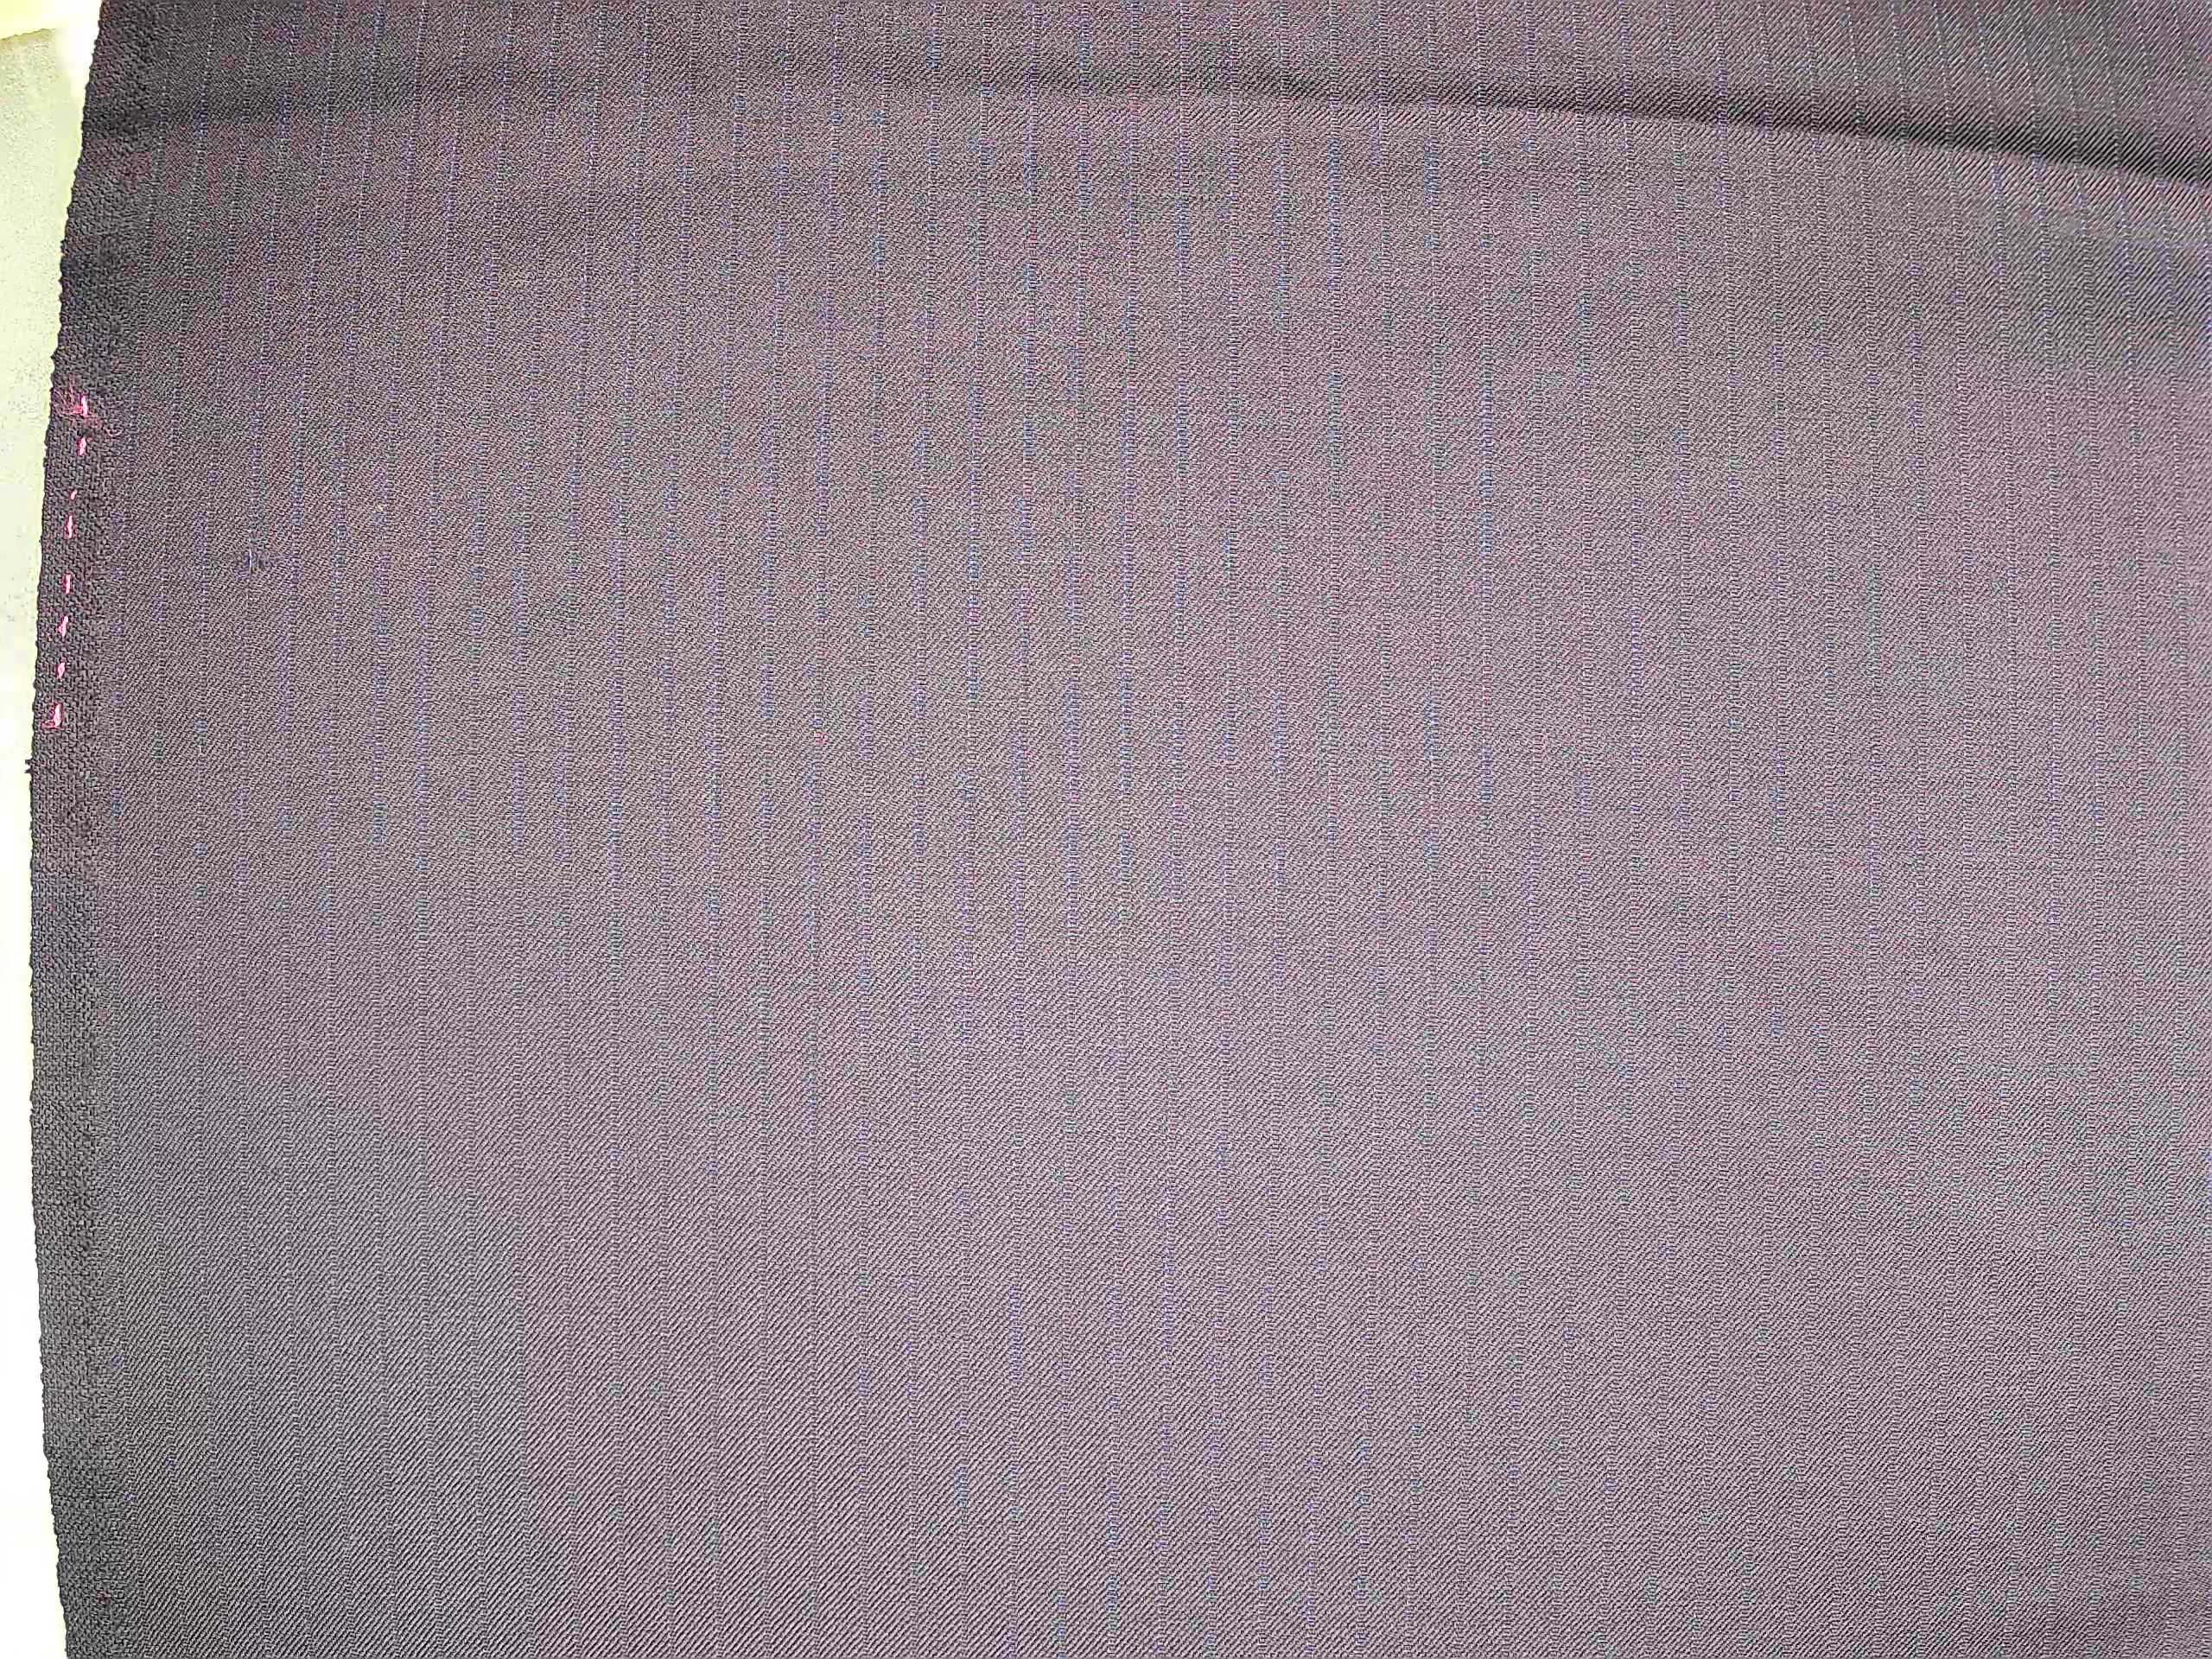knots: (204, 530, 300, 594)
